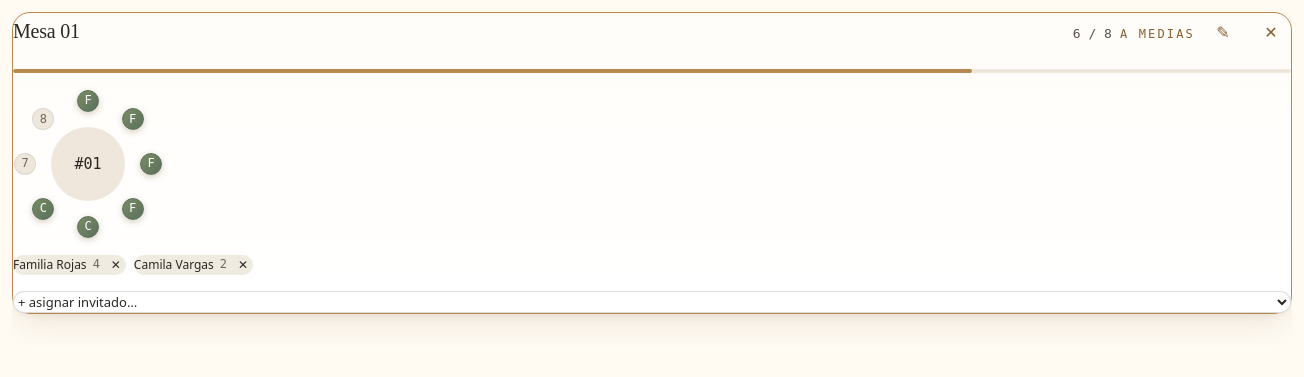
it: TableCard › enseña el error del servidor cuando el grupo no cabe
Select "Pareja Nieto · 2" in the dropdown at [652, 302], box [13,291,1291,313]
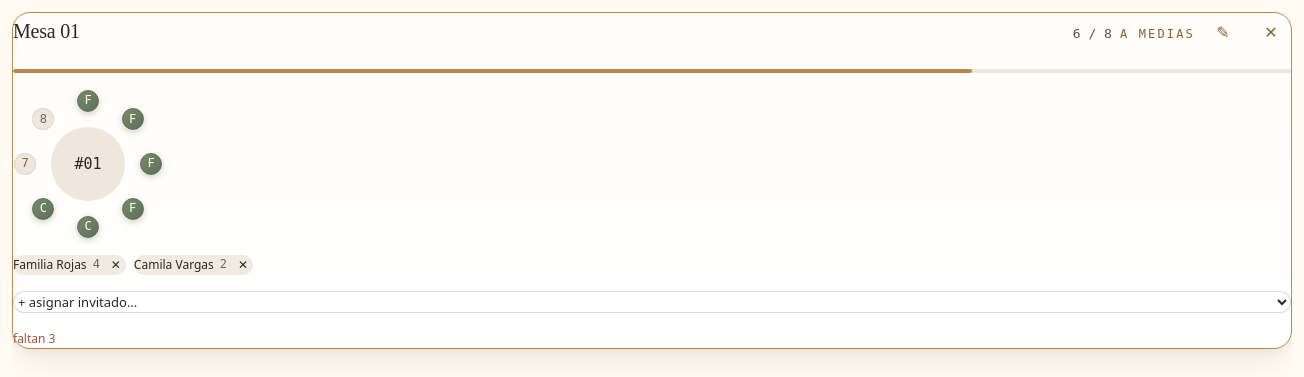
expect the message reads "faltan 3": met, box [13,330,55,347]
